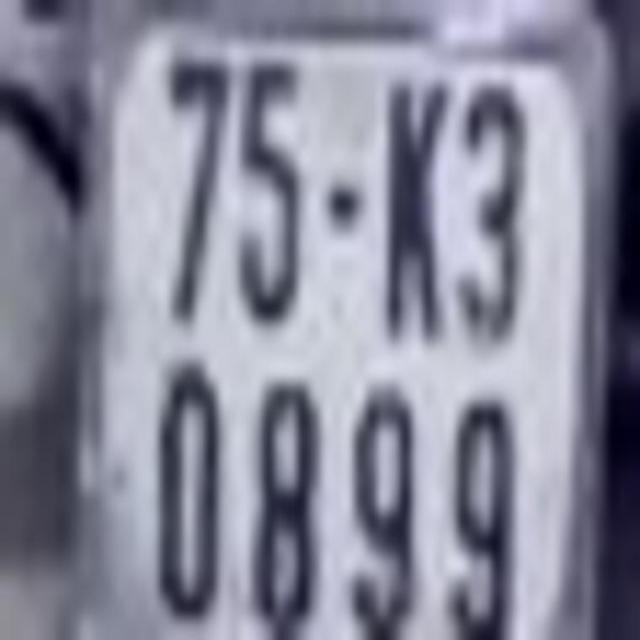0: (153, 373, 215, 618)
3: (465, 94, 522, 344)
5: (242, 63, 304, 330)
7: (160, 62, 220, 320)
8: (257, 384, 315, 624)
9: (350, 402, 411, 640), (452, 403, 510, 640)
K: (389, 105, 448, 328)
